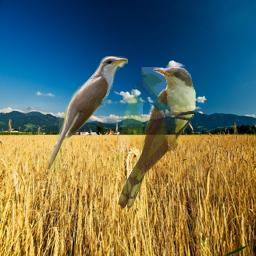Cuckoo: (117, 67, 196, 211), (44, 56, 128, 173)
